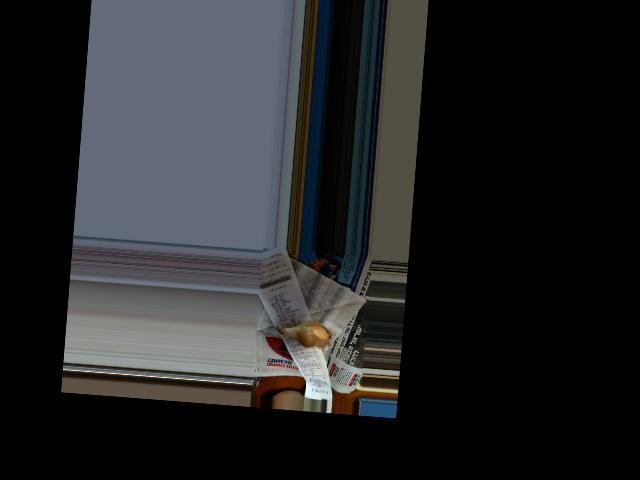onion: (278, 318, 328, 346)
